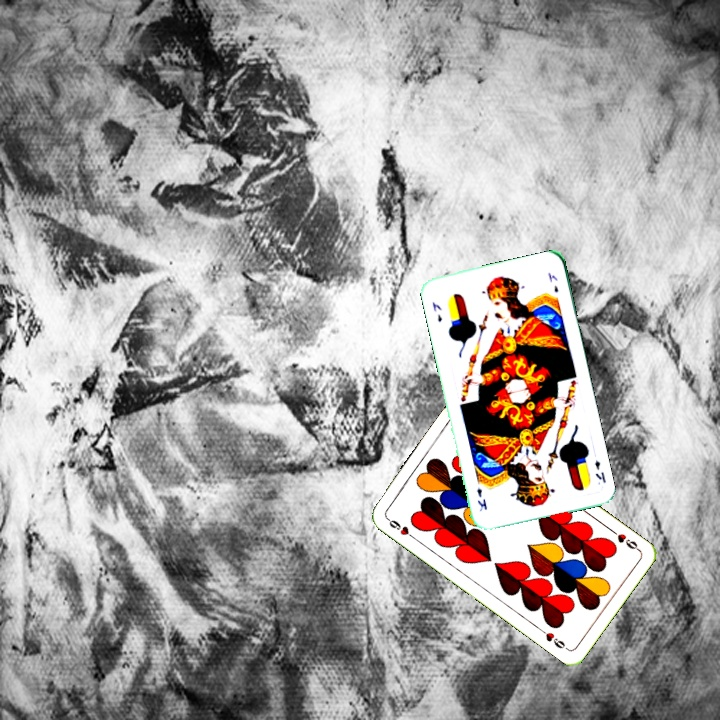EK: (591, 457, 608, 485), (428, 297, 445, 324)
H9: (607, 525, 642, 554), (382, 514, 418, 542)
